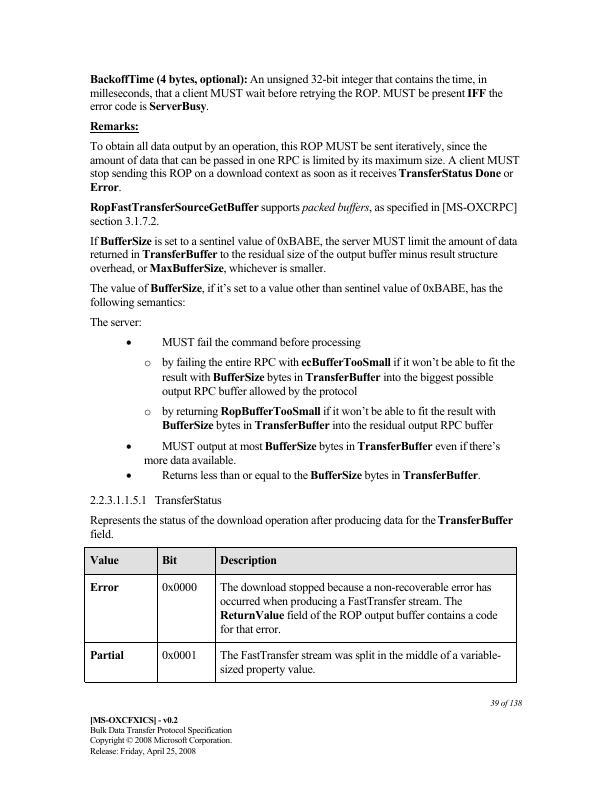table: (81, 545, 521, 686)
text: (86, 139, 520, 195), (85, 233, 523, 277), (86, 70, 505, 114), (160, 356, 518, 398), (86, 281, 508, 312), (87, 512, 512, 542), (87, 199, 521, 228), (139, 440, 504, 466), (159, 405, 498, 432), (87, 713, 240, 765), (156, 467, 483, 486), (159, 336, 366, 350), (87, 491, 225, 508), (483, 694, 537, 713), (87, 117, 142, 134), (87, 315, 146, 330)
